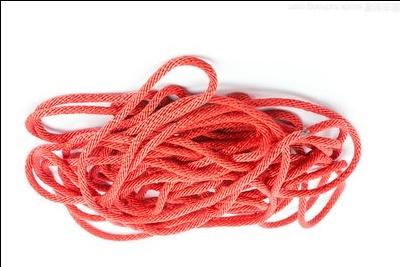9/可回收垃圾/绳子: (23, 55, 362, 241)
